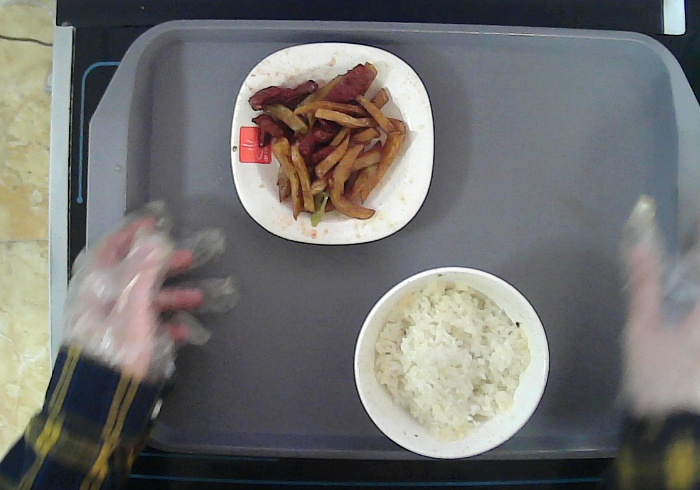SHKJ-Bai_Se_Si_Fang_Cai_Die: (230, 44, 435, 246)
SHKJ-Fan_Wan: (356, 266, 550, 459)
